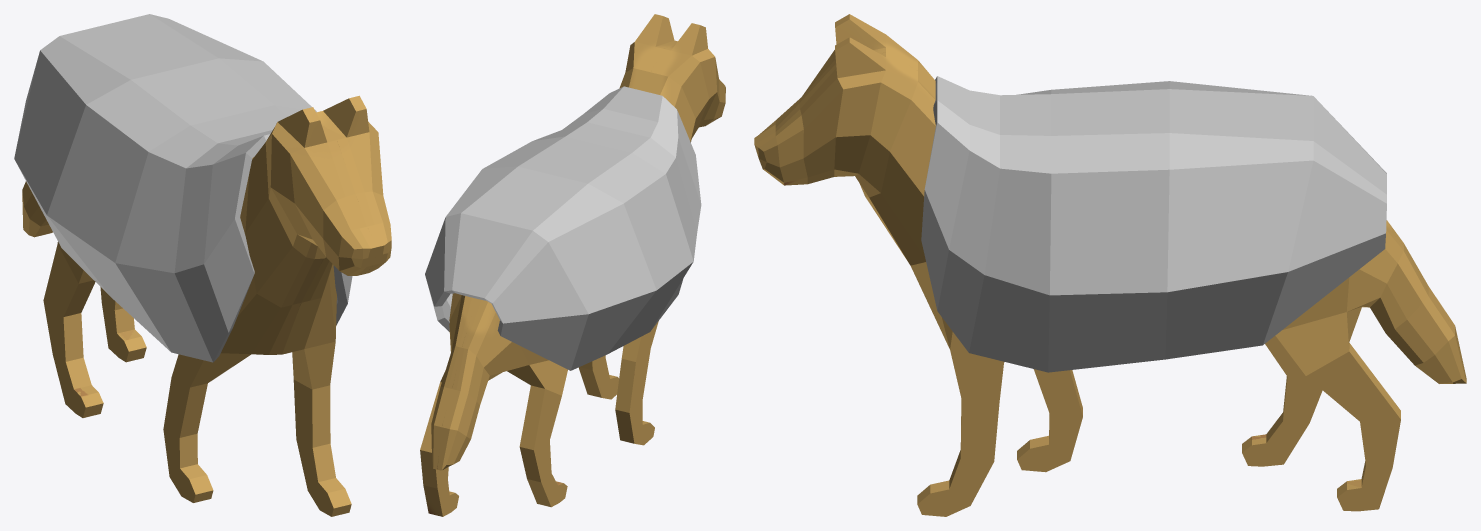
File: WolfSheep.fbx
The picture shows the model from 3 angles, left to right: view 1: azimuth 30°, elevation 25°; view 2: azimuth 150°, elevation 25°; view 3: azimuth 270°, elevation 25°; orthographic projection. The views are drawn at different scales.
Visible parts, largest first — view 1: Plane.001, Plane; view 2: Plane.001, Plane; view 3: Plane.001, Plane.
Part boxes in pixels (left/top/right/bottom): Plane.001: left=14, top=14, right=352, bottom=362; Plane: left=22, top=95, right=391, bottom=516; Plane.001: left=425, top=86, right=701, bottom=370; Plane: left=420, top=14, right=725, bottom=516; Plane.001: left=921, top=76, right=1386, bottom=372; Plane: left=754, top=14, right=1466, bottom=516.
Size of the model in its own units: 361 by 602 by 841.
